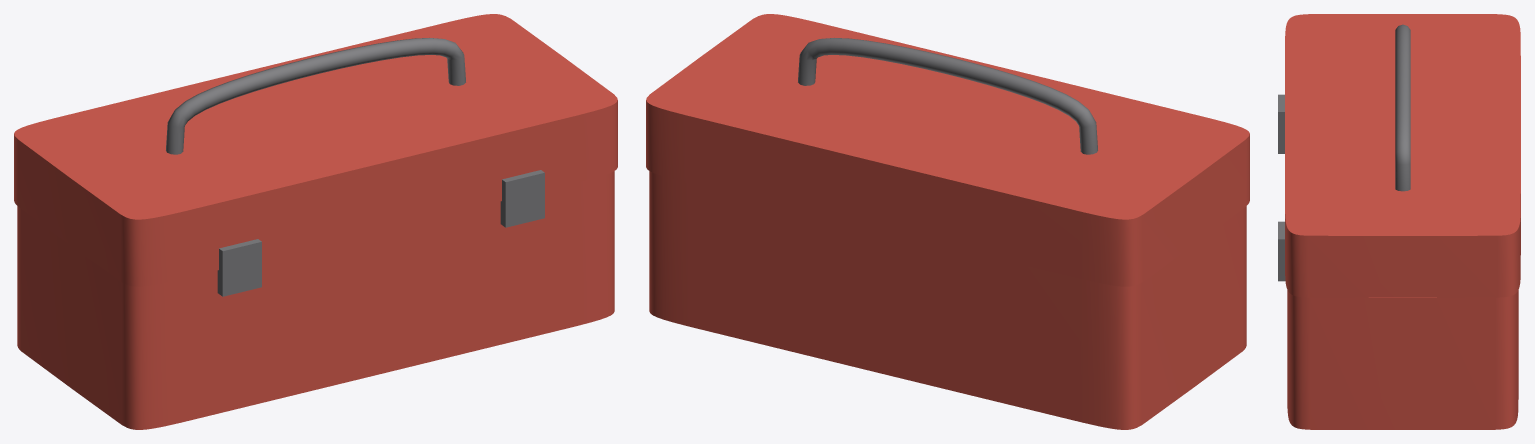
3 renders of one model, left to right at view 1: azimuth 30°, elevation 25°; view 2: azimuth 150°, elevation 25°; view 3: azimuth 270°, elevation 25°, orthographic. The views are drawn at different scales.
Parts seen in each view (by area): view 1: Toolbox, steel; view 2: Toolbox, steel; view 3: Toolbox, steel.
Part boxes in pixels (<box>): Toolbox, steel: <box>14,14,617,429</box>; Toolbox, steel: <box>646,14,1249,429</box>; Toolbox, steel: <box>1278,14,1520,429</box>.
Bounding box in the file's own units: 0.454 × 0.242 × 0.21.
